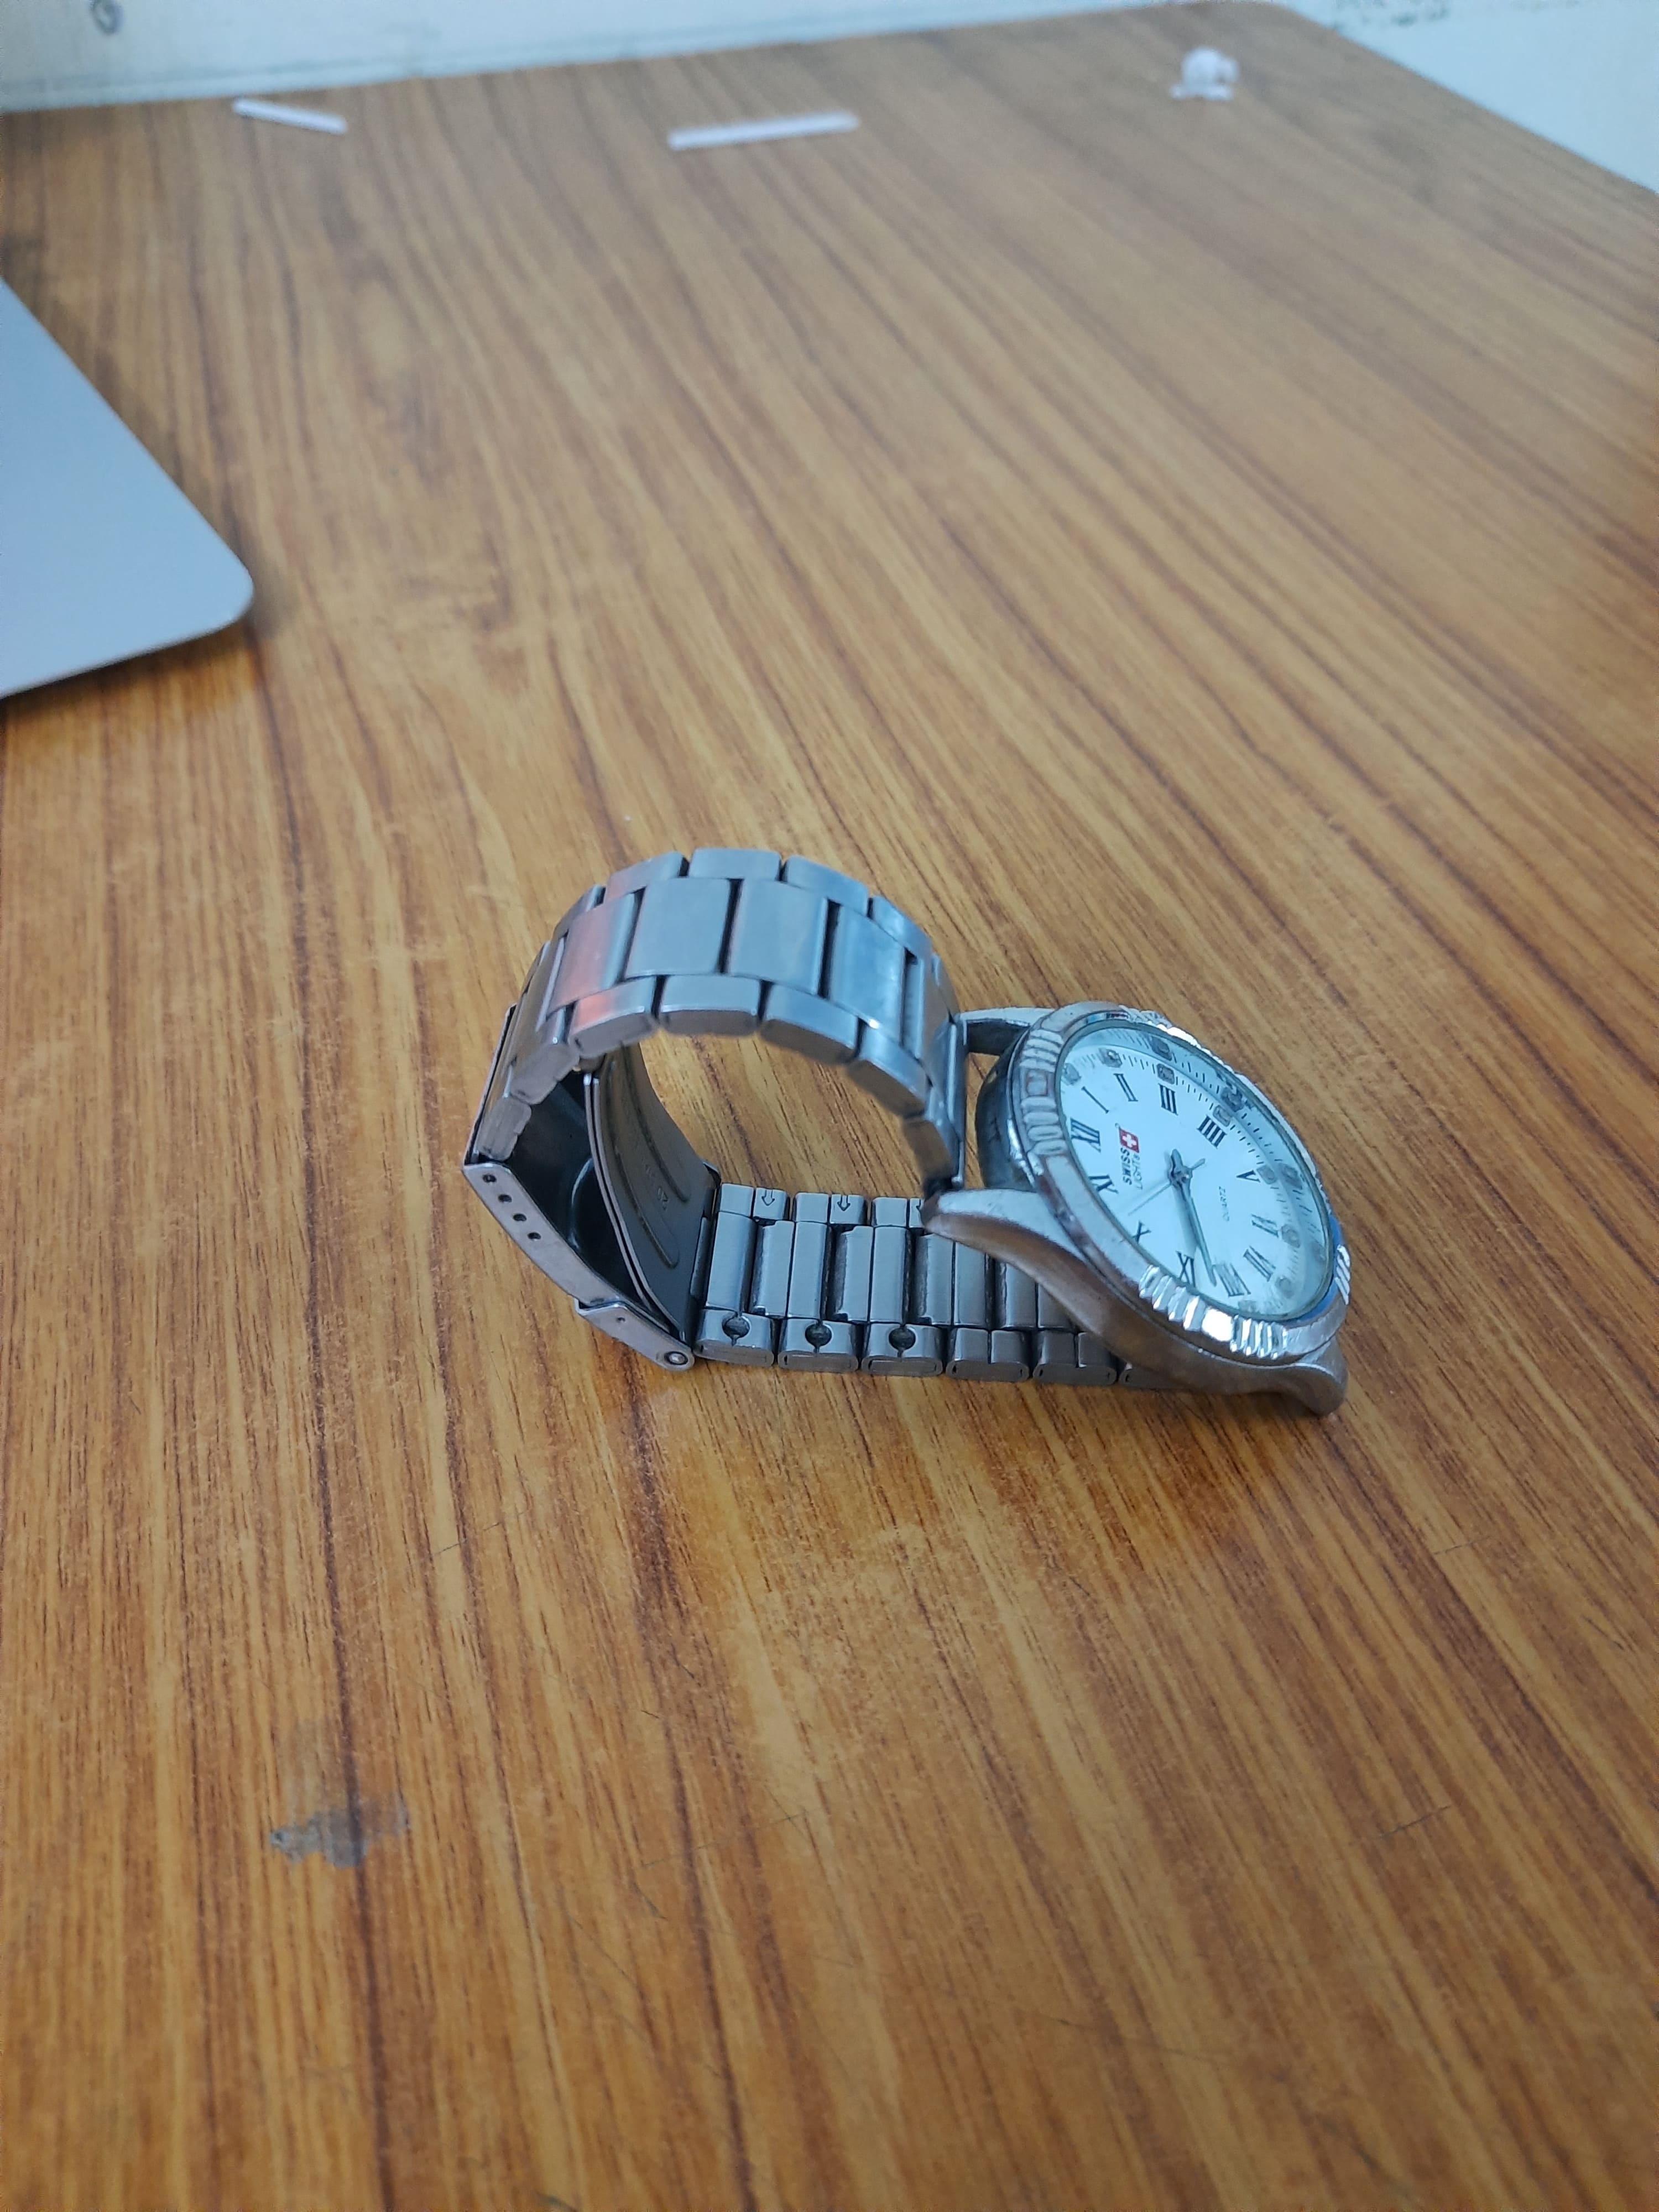Vikash's Watch: (451, 829, 1370, 1479)
